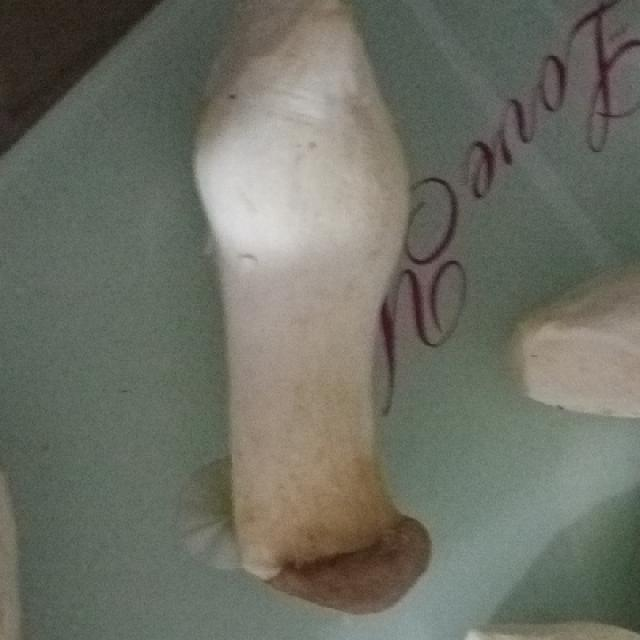Pleurotus eryngii: (183, 0, 428, 611)
